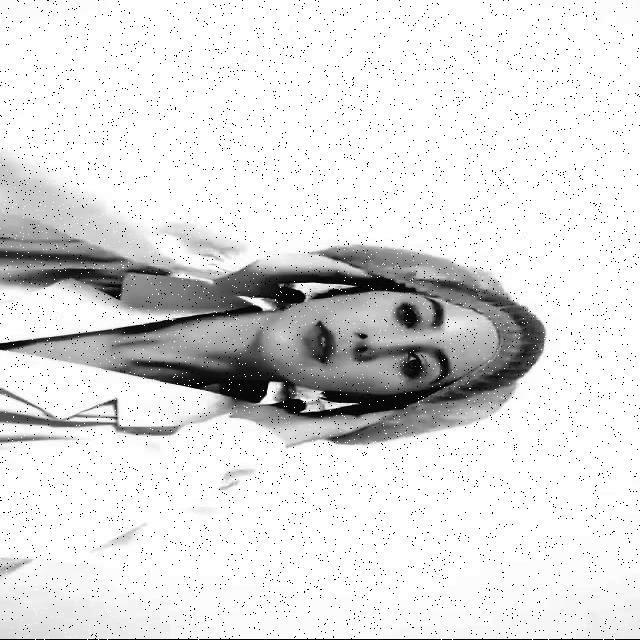gloves: (450, 282, 540, 422)
no_hairnet: (291, 284, 391, 382)
